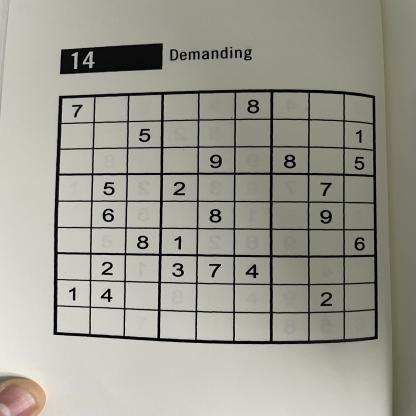sudoku: (44, 86, 386, 348)
